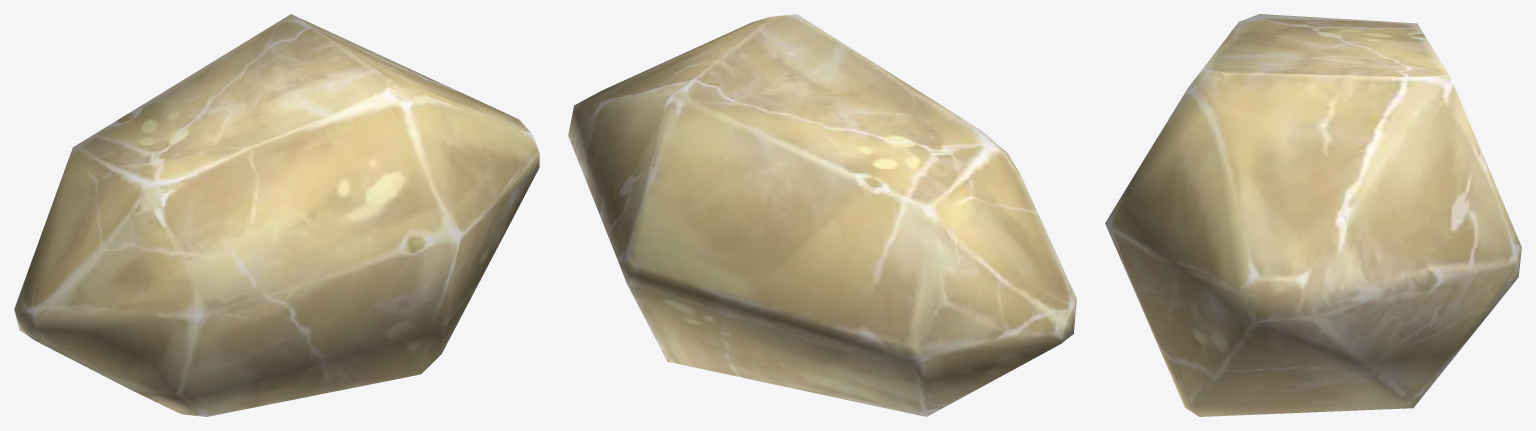
3 views of the same model, side by side, from view 1: azimuth 30°, elevation 25°; view 2: azimuth 150°, elevation 25°; view 3: azimuth 270°, elevation 25° (orthographic). The views are drawn at different scales.
Visible parts, largest first — view 1: SM_Gemstone_Opal_01_LOD0; view 2: SM_Gemstone_Opal_01_LOD0; view 3: SM_Gemstone_Opal_01_LOD0.
Boxes of the visible parts, x1,y1,x2,y2 form: SM_Gemstone_Opal_01_LOD0: (14, 14, 539, 416); SM_Gemstone_Opal_01_LOD0: (568, 14, 1076, 416); SM_Gemstone_Opal_01_LOD0: (1105, 14, 1521, 416).
Bounding box in the file's own units: 0.3544 × 0.1969 × 0.2251.
